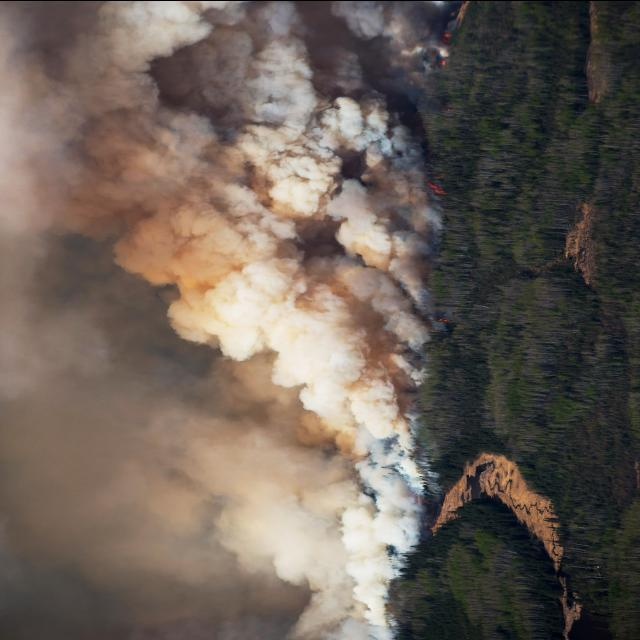Fire: (426, 174, 446, 198)
